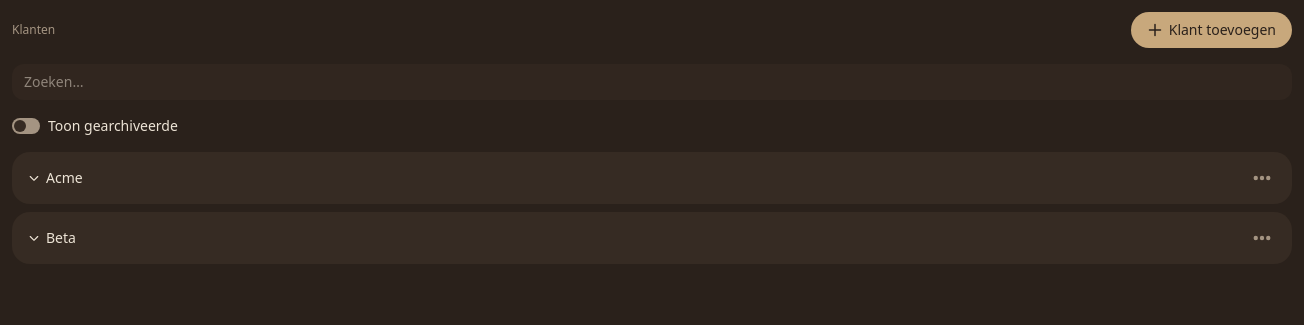
Test: the accordion › asks for every project once rather than once per row
Step 1. Click the button "Acme" → (55, 178), box [28,168,83,188]
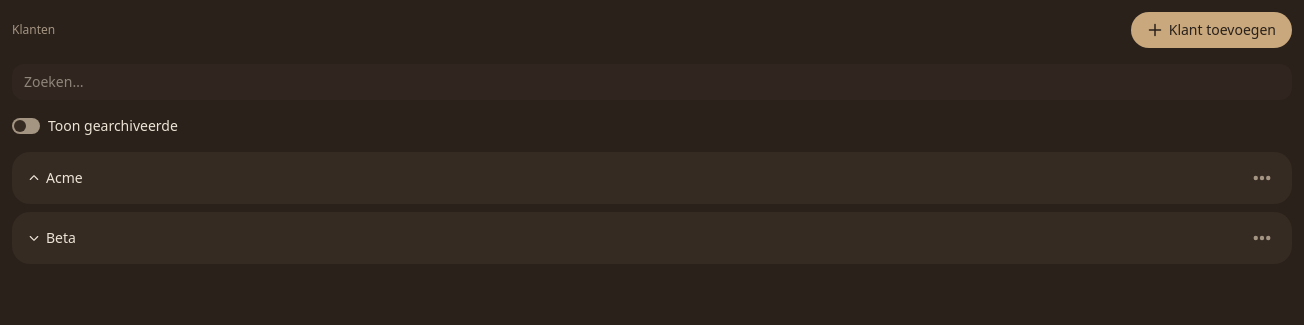
Step 2. Click the button "Beta" → (52, 238), box [28,228,76,248]
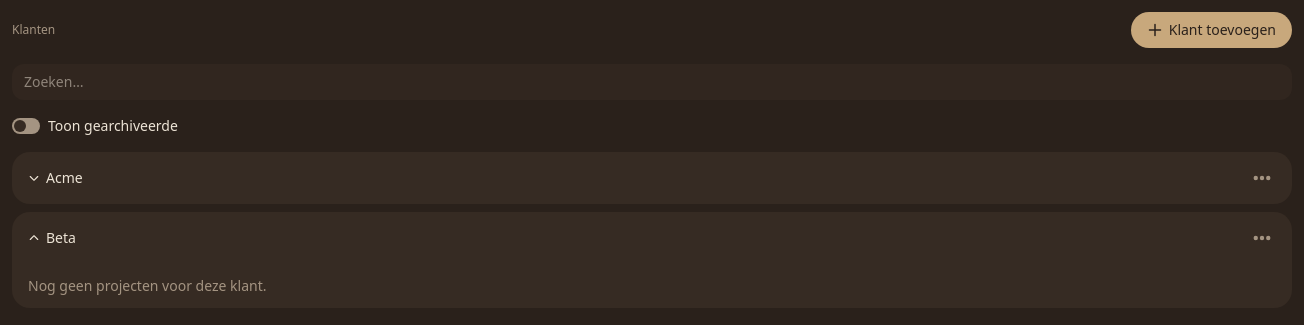
expect the button "Beta" is expanded: met, box [28,228,76,248]
